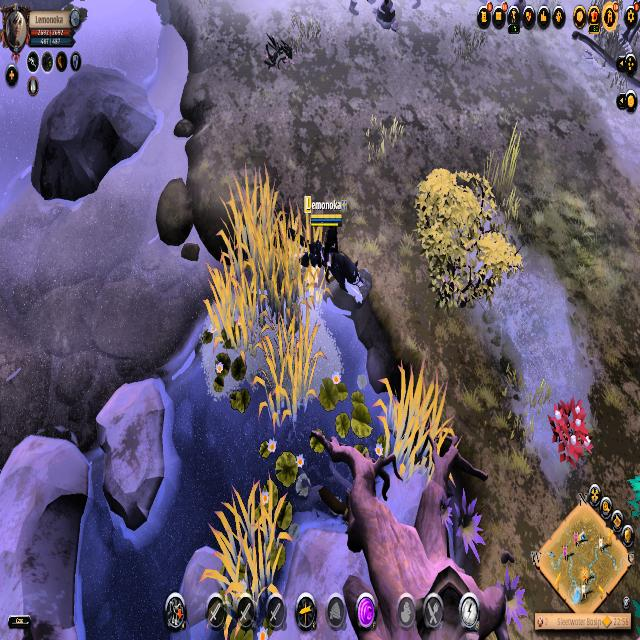fiber tier 5: (548, 395, 595, 473)
